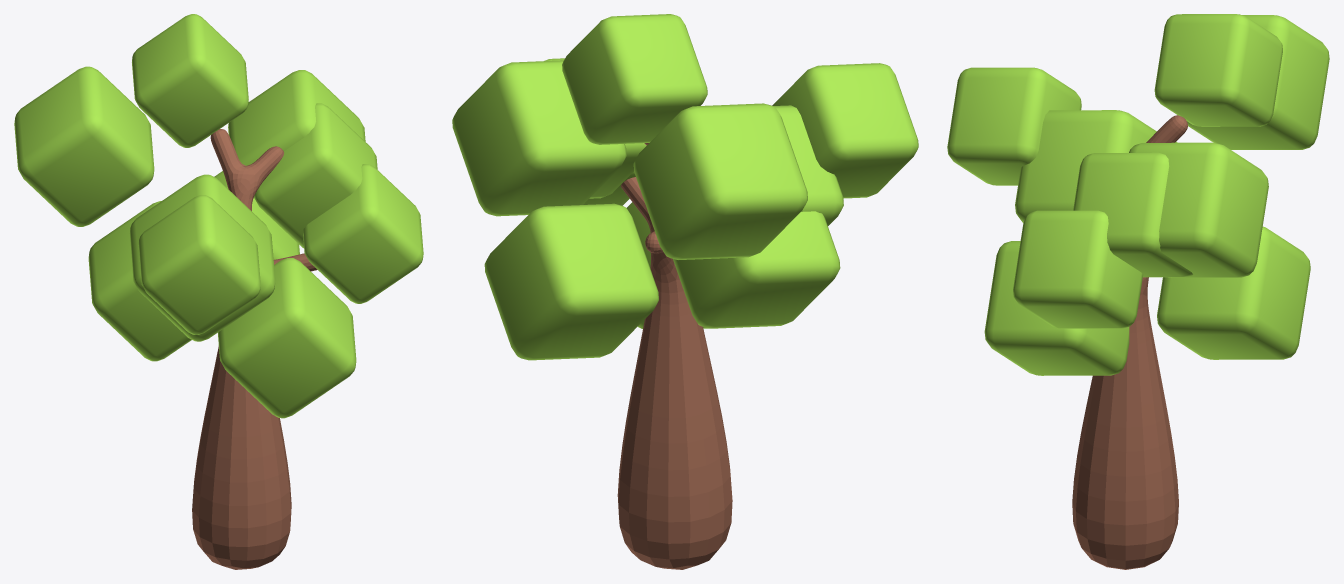
File: tree.fbx
3 views of the same model, side by side, from view 1: azimuth 30°, elevation 25°; view 2: azimuth 150°, elevation 25°; view 3: azimuth 270°, elevation 25° (orthographic). The views are drawn at different scales.
Parts seen in each view (by area): view 1: Vert, Cube.004, Cube.006, Cube.010, Cube.005, Cube.001, Cube.003, Cube.007, Cube.009, Cube.002, Cube.008; view 2: Vert, Cube.004, Cube.008, Cube.009, Cube.005, Cube.010, Cube.007, Cube.002, Cube.003, Cube.006; view 3: Vert, Cube.008, Cube.009, Cube.005, Cube.001, Cube.010, Cube.006, Cube.003, Cube.002, Cube.004.
Part boxes in pixels (box(x1,y1,x2,y2)): Vert: box(192, 129, 317, 569); Cube.004: box(14, 66, 154, 226); Cube.006: box(218, 258, 356, 418); Cube.010: box(138, 195, 260, 334); Cube.005: box(132, 14, 248, 147); Cube.001: box(303, 164, 423, 303); Cube.003: box(254, 103, 377, 248); Cube.007: box(88, 201, 191, 361); Cube.009: box(228, 70, 365, 197); Cube.002: box(129, 174, 275, 341); Cube.008: box(214, 171, 299, 259); Vert: box(617, 143, 732, 569); Cube.004: box(633, 103, 807, 259); Cube.008: box(484, 203, 658, 360); Cube.009: box(452, 60, 626, 216); Cube.005: box(562, 14, 707, 144); Cube.010: box(772, 63, 918, 198); Cube.007: box(673, 211, 840, 328); Cube.002: box(773, 105, 843, 225); Cube.003: box(544, 58, 646, 198); Cube.006: box(626, 202, 708, 328); Vert: box(1072, 115, 1187, 569); Cube.008: box(1157, 226, 1310, 359); Cube.009: box(1129, 142, 1268, 277); Cube.005: box(1154, 14, 1282, 126); Cube.001: box(1013, 210, 1142, 328); Cube.010: box(947, 67, 1081, 185); Cube.006: box(984, 241, 1129, 375); Cube.003: box(1073, 152, 1192, 277); Cube.002: box(1015, 110, 1156, 222); Cube.004: box(1187, 15, 1329, 149).
Size of the model in its own units: 248 by 369 by 233.
